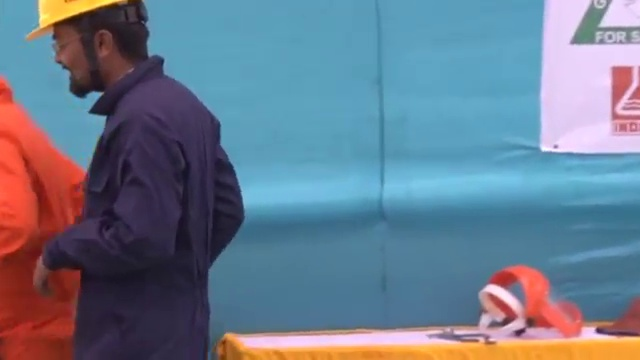helmet: (23, 1, 129, 40)
helmet_on: (22, 1, 163, 100)
person: (21, 1, 251, 360)
